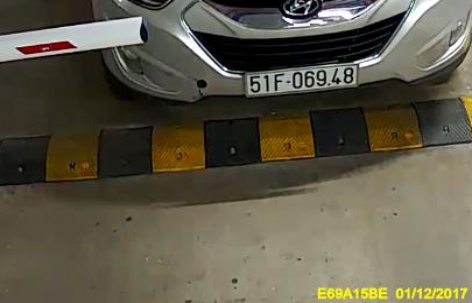plate: (242, 62, 357, 93)
